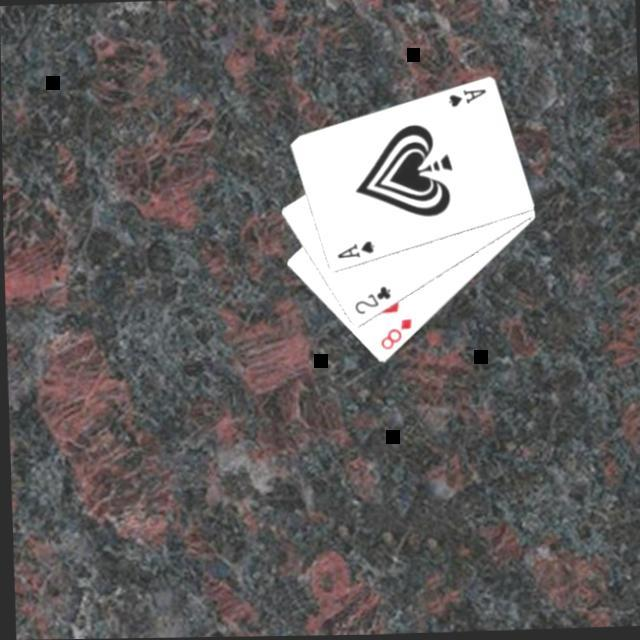2C: (348, 284, 391, 320)
8D: (373, 318, 412, 357)
AS: (441, 88, 486, 114), (330, 240, 374, 266)
